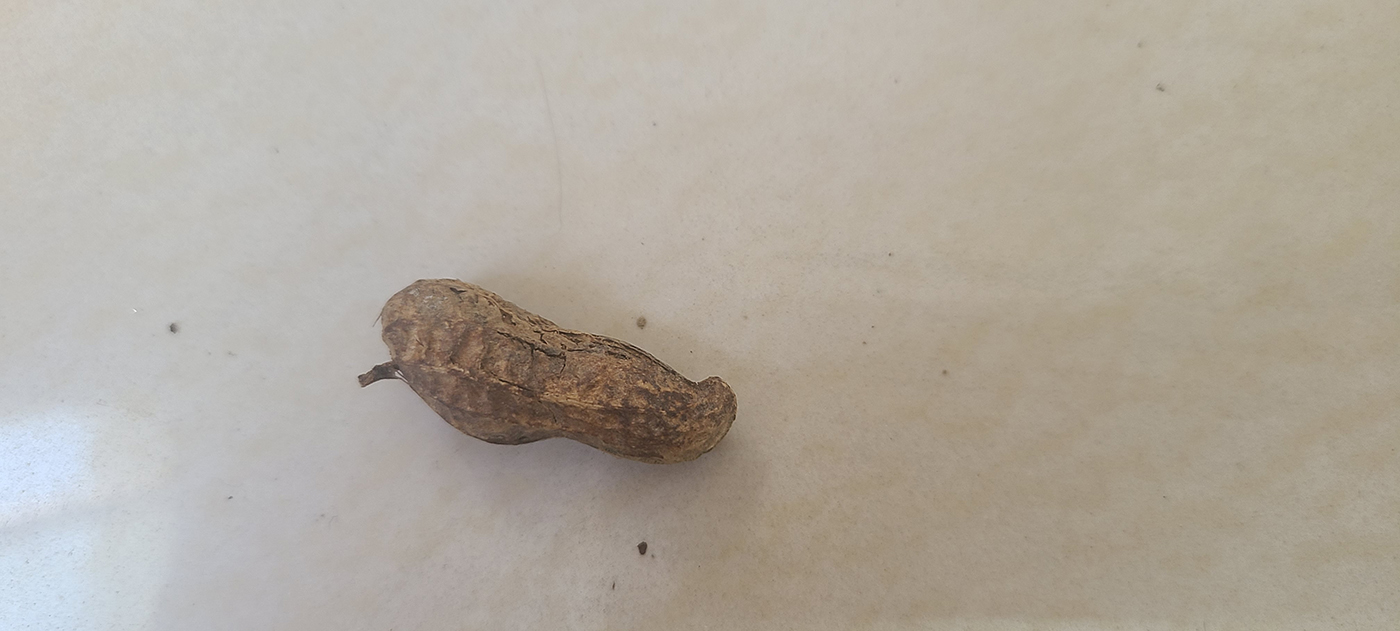l: (380, 279, 739, 463)
